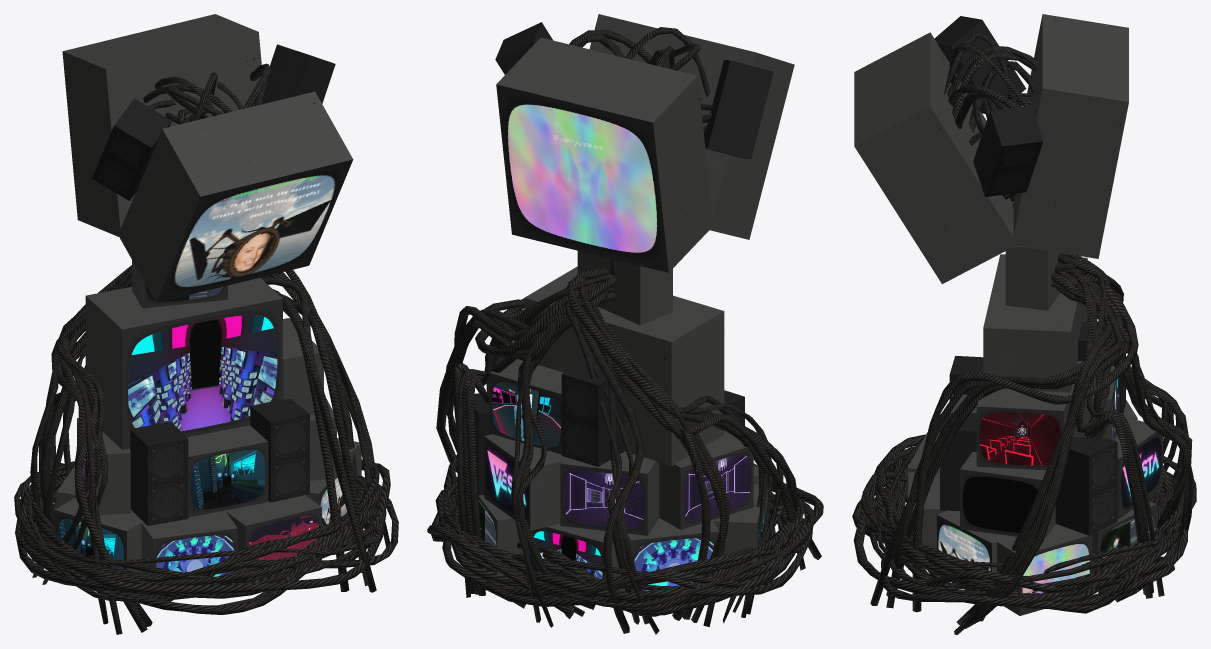
The model's file is bot_low.dae.
The picture shows the model from 3 angles, left to right: view 1: azimuth 30°, elevation 25°; view 2: azimuth 150°, elevation 25°; view 3: azimuth 270°, elevation 25°; orthographic projection. The views are drawn at different scales.
Visible parts, largest first — view 1: AbominationBase, AbominationScreens, AbominationBase_001; view 2: AbominationBase, AbominationBase_001, AbominationScreens; view 3: AbominationBase, AbominationBase_001, AbominationScreens.
Part boxes in pixels (bbox=[...]): AbominationBase: bbox=[55, 14, 361, 573]; AbominationScreens: bbox=[54, 159, 352, 576]; AbominationBase_001: bbox=[14, 63, 398, 634]; AbominationBase: bbox=[474, 14, 794, 590]; AbominationBase_001: bbox=[427, 27, 823, 634]; AbominationScreens: bbox=[478, 84, 765, 591]; AbominationBase: bbox=[854, 14, 1156, 615]; AbominationBase_001: bbox=[852, 32, 1196, 634]; AbominationScreens: bbox=[937, 377, 1162, 615].
Size of the model in its own units: 4.37 by 3.92 by 6.58.
Materials: 16 (16 with a texture image).
